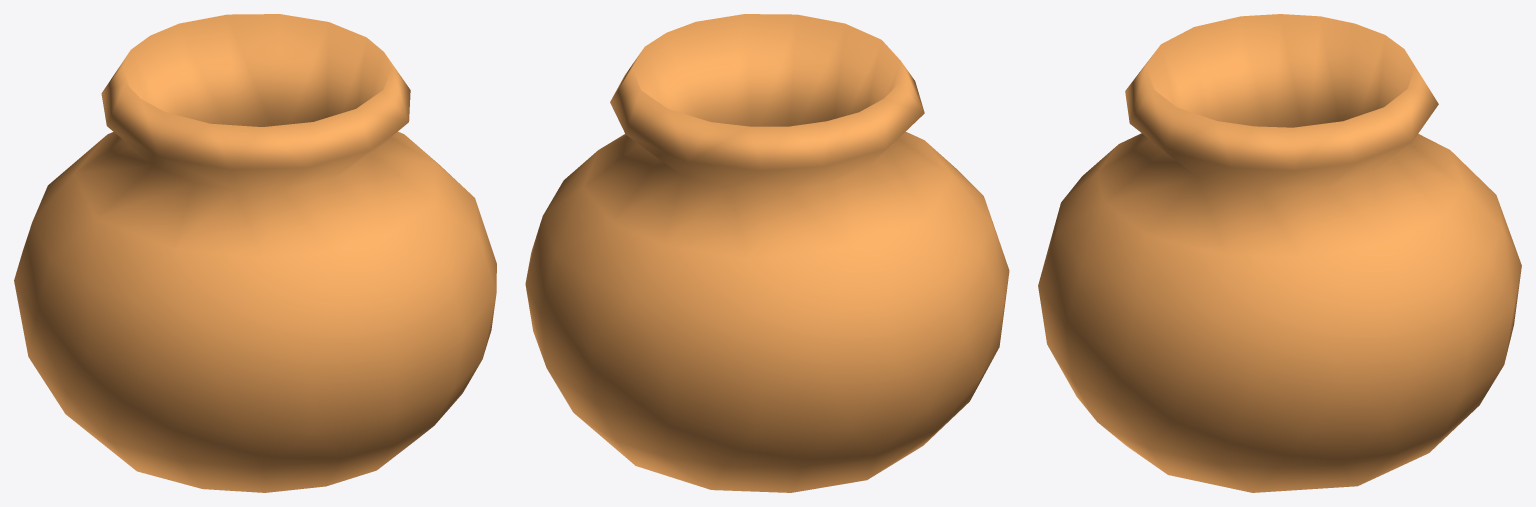
The model's file is PortaQuill.fbx.
3 views of the same model, side by side, from view 1: azimuth 30°, elevation 25°; view 2: azimuth 150°, elevation 25°; view 3: azimuth 270°, elevation 25° (orthographic).
Visible parts, largest first — view 1: PortaQuill_LowPoli; view 2: PortaQuill_LowPoli; view 3: PortaQuill_LowPoli.
Part boxes in pixels (x1,y1,x2,y2): PortaQuill_LowPoli: (14, 14, 496, 492); PortaQuill_LowPoli: (525, 14, 1009, 492); PortaQuill_LowPoli: (1038, 14, 1521, 492).
Bounding box in the file's own units: 8.99 × 7.27 × 8.99.
